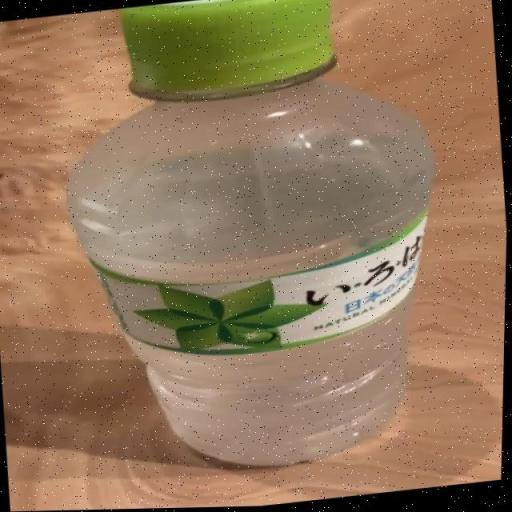plastic: (67, 0, 436, 471)
